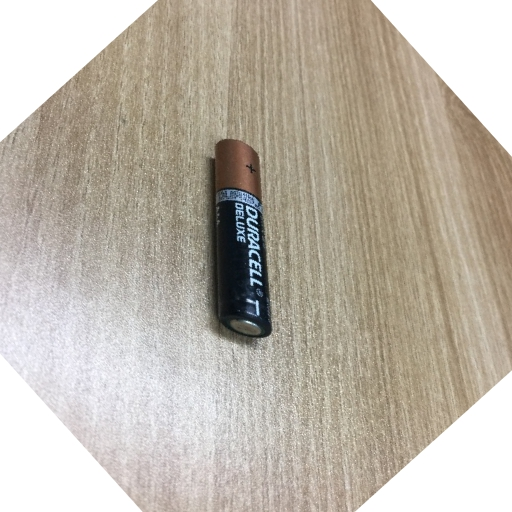Battery_0: (195, 128, 297, 368)
